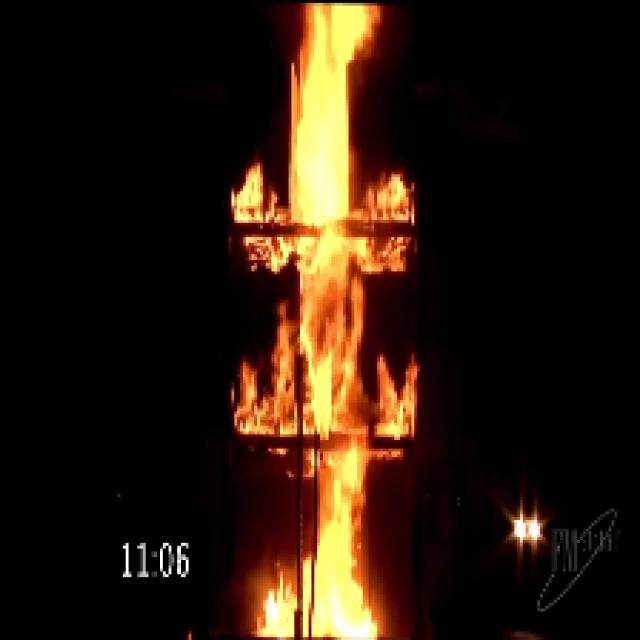fire: (278, 0, 382, 637)
